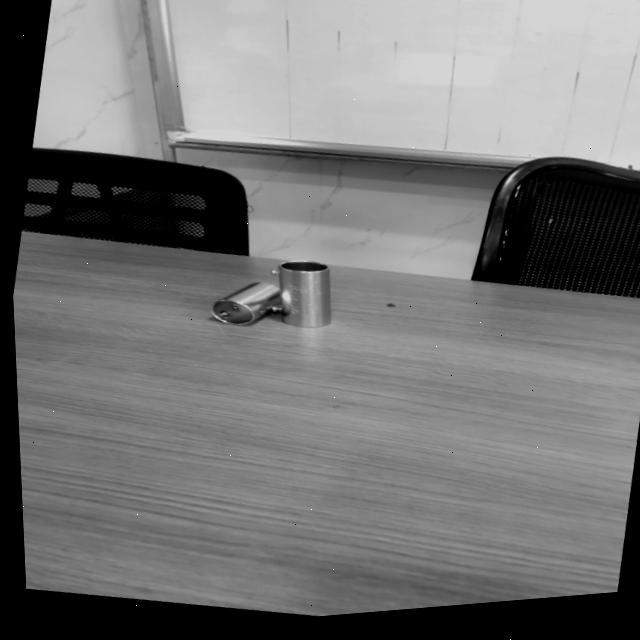Co_Lon: (278, 260, 331, 328)
Co_Nho: (207, 274, 288, 336)
